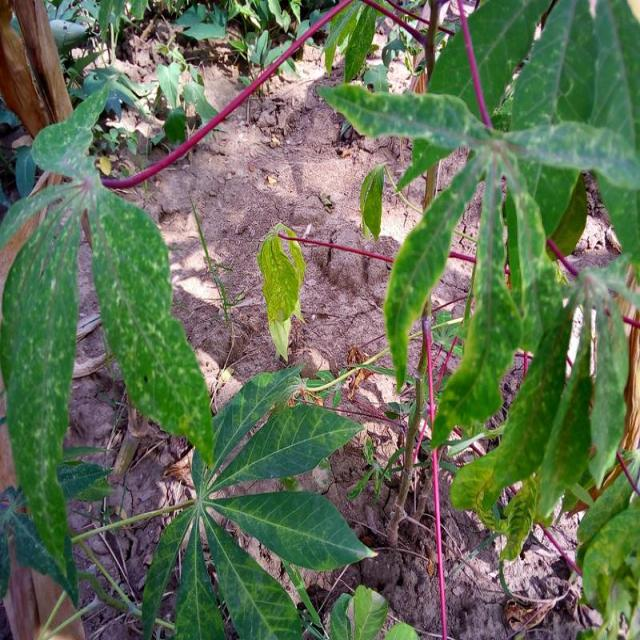cassava leaf: (317, 0, 638, 561), (83, 178, 215, 467), (256, 220, 306, 362)
